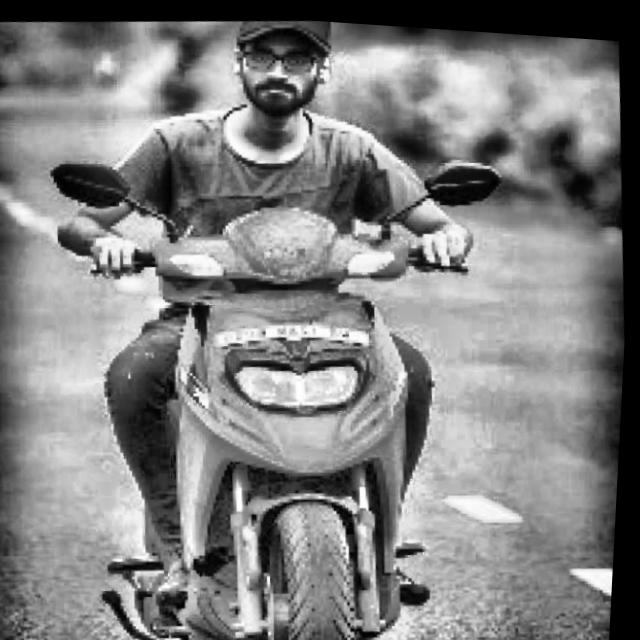motorcycle: (23, 120, 551, 640)
